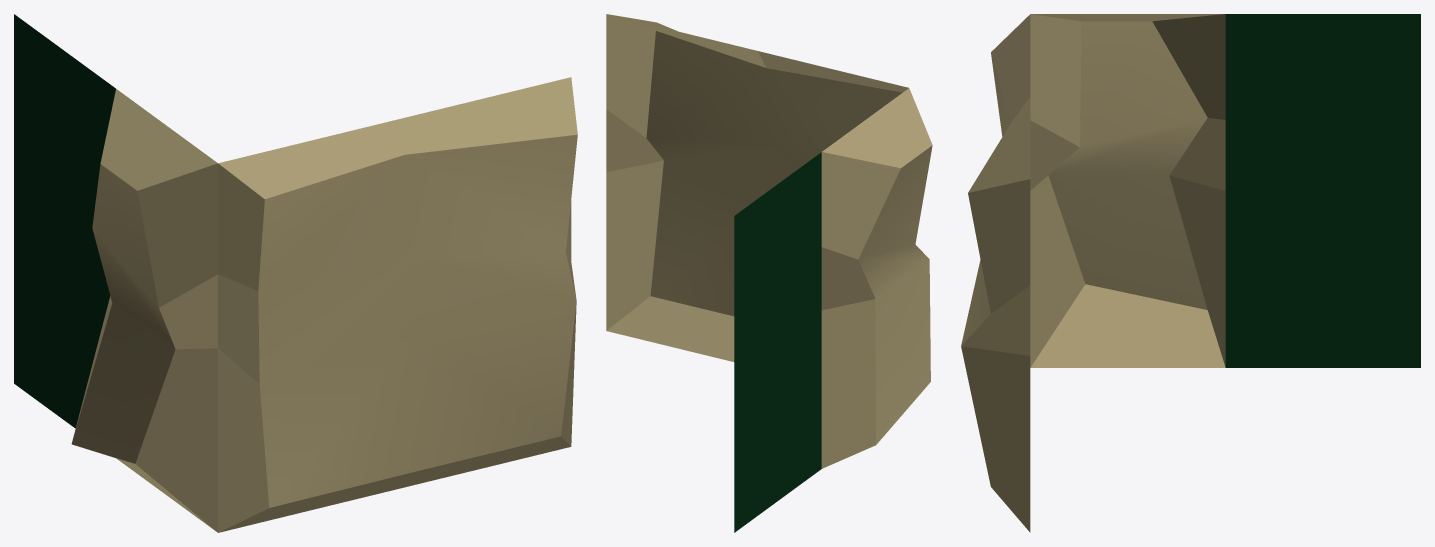
File: Modular_D.fbx
The picture shows the model from 3 angles, left to right: view 1: azimuth 30°, elevation 25°; view 2: azimuth 150°, elevation 25°; view 3: azimuth 270°, elevation 25°; orthographic projection. The views are drawn at different scales.
Parts seen in each view (by area): view 1: Geo_D; view 2: Geo_D; view 3: Geo_D.
Boxes of the visible parts, x1,y1,x2,y2 form: Geo_D: [14, 14, 577, 532]; Geo_D: [606, 14, 932, 532]; Geo_D: [961, 14, 1420, 532].
Bounding box in the file's own units: 4.61 × 4 × 4.71.
